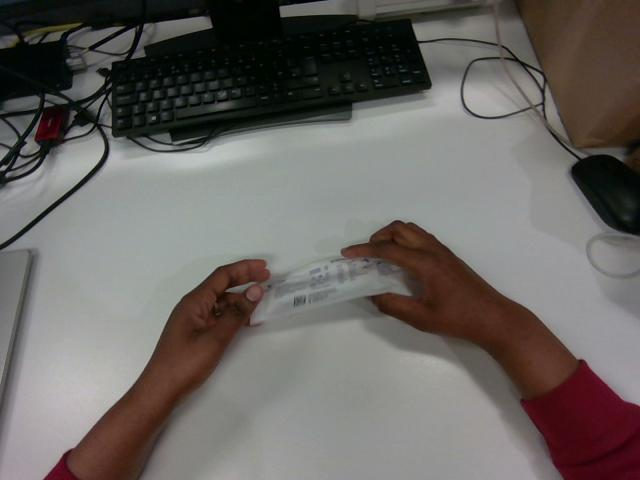syringe: (251, 257, 410, 324)
